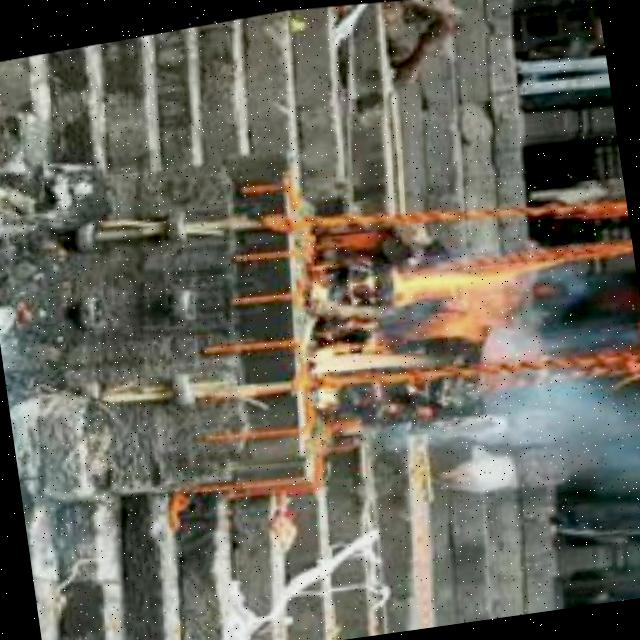fire: (290, 228, 566, 396)
